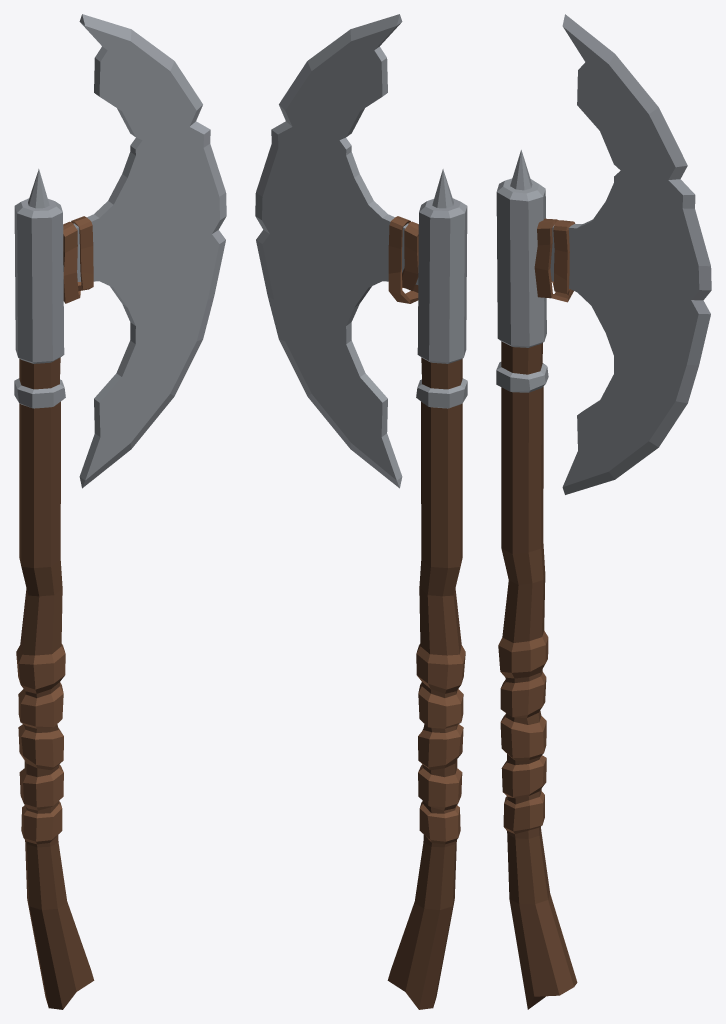
Rendered from armory-berserker-0.glb.
3 renders of one model, left to right at view 1: azimuth 30°, elevation 25°; view 2: azimuth 150°, elevation 25°; view 3: azimuth 330°, elevation 25°, orthographic.
Visible parts, largest first — view 1: Axe_Cylinder.003; view 2: Axe_Cylinder.003; view 3: Axe_Cylinder.003.
Part boxes in pixels (x1=…): Axe_Cylinder.003: x1=14, y1=14, x2=226, y2=1009; Axe_Cylinder.003: x1=255, y1=14, x2=467, y2=1009; Axe_Cylinder.003: x1=496, y1=14, x2=711, y2=1009.
Size of the model in its own units: 1.17 by 5.26 by 0.2483.
